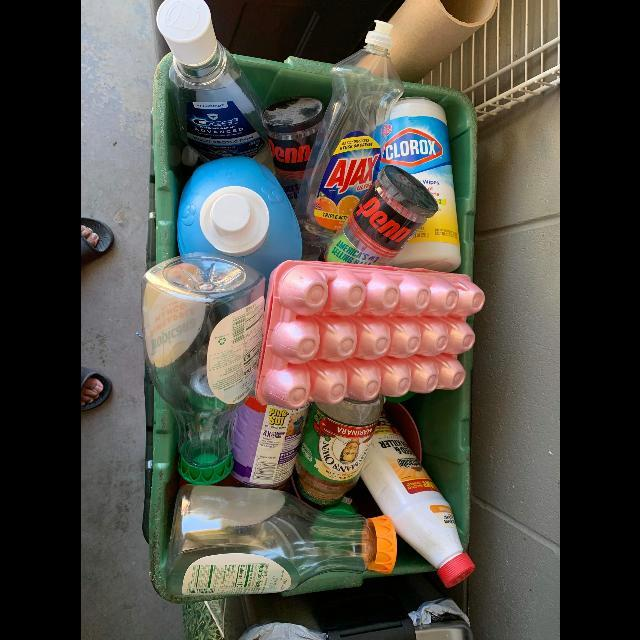aluminum: (325, 166, 436, 268)
glass_bottle: (139, 254, 264, 484), (161, 485, 397, 604), (155, 0, 268, 160), (292, 398, 383, 505)
plastic_bottle: (295, 19, 407, 250), (362, 408, 474, 588)
plastic_container: (176, 155, 306, 276), (376, 95, 462, 275)
